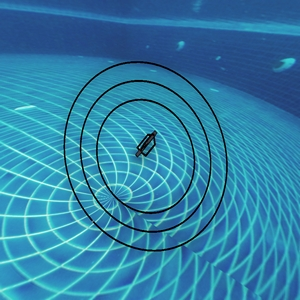circle: (60, 50, 235, 266)
submarine: (138, 132, 155, 158)
